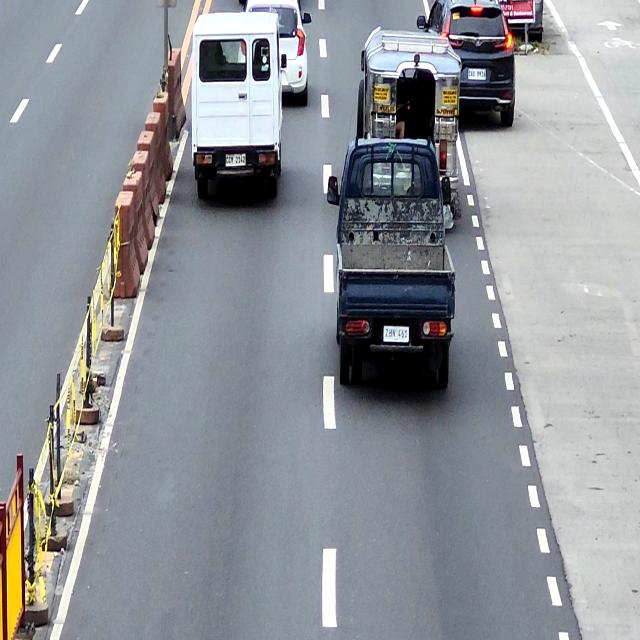Car: (190, 11, 284, 202), (417, 0, 517, 129), (237, 0, 314, 108)
Jeep: (356, 27, 460, 229)
License-Plate: (383, 327, 409, 343), (224, 154, 247, 166), (467, 68, 486, 80)
Truck: (328, 137, 456, 390)
